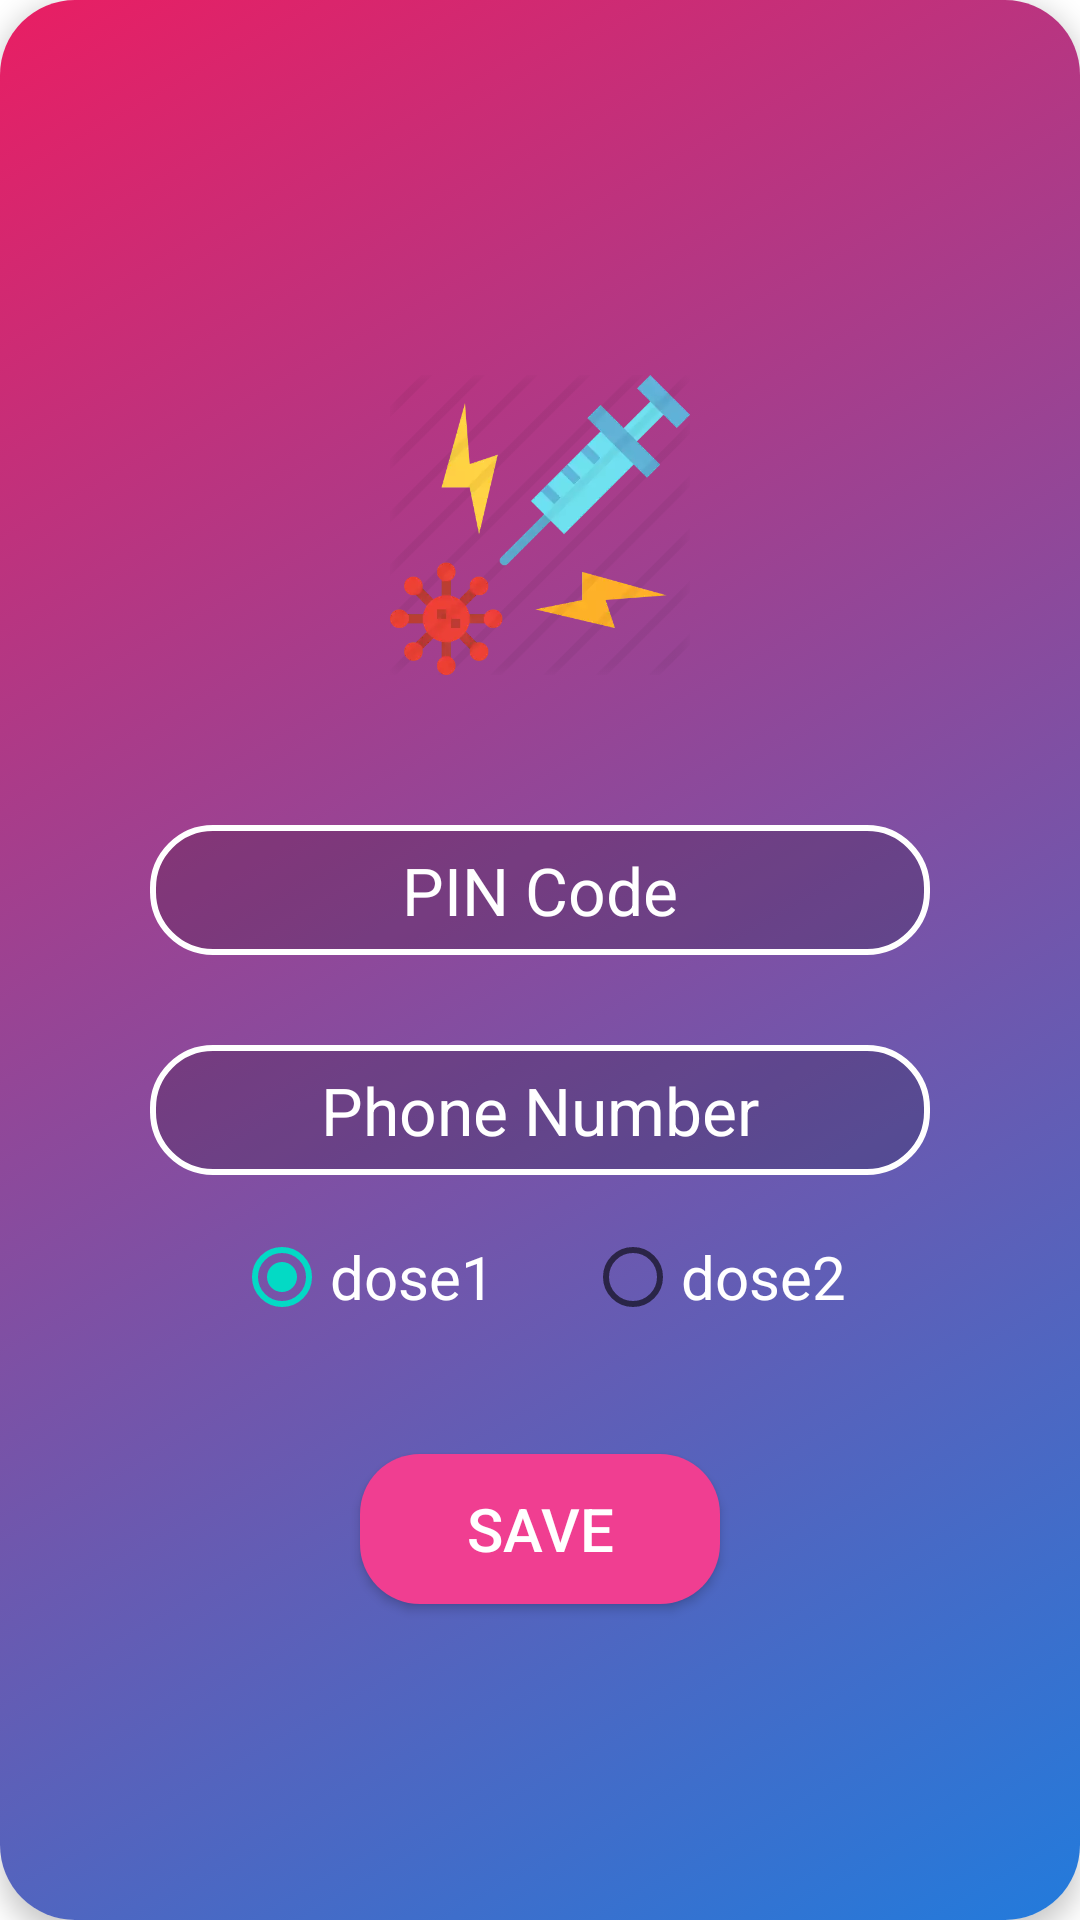

Where to tap for icons on this 1080 x 1920 app screen, as (x,y):
Vaccine icon: (540,525)
